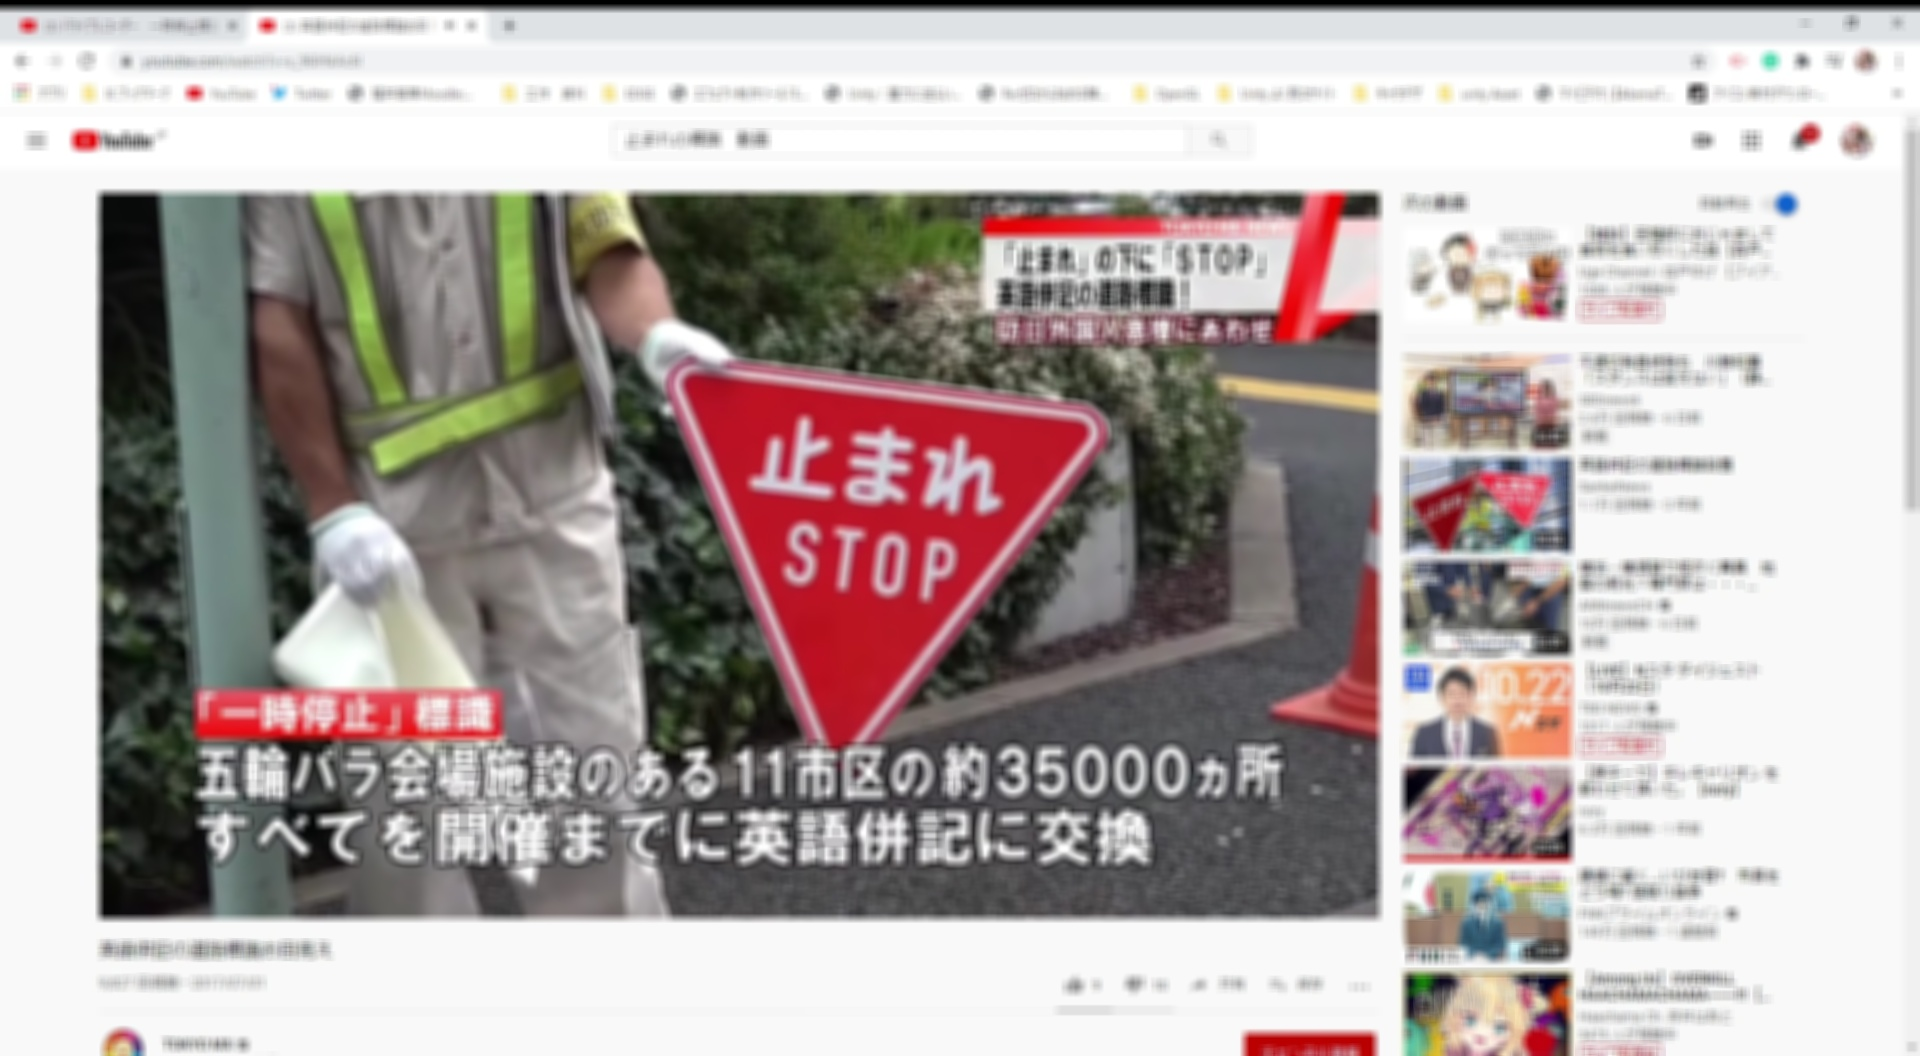Regulatory_sign_triangle: (638, 330, 1123, 808)
